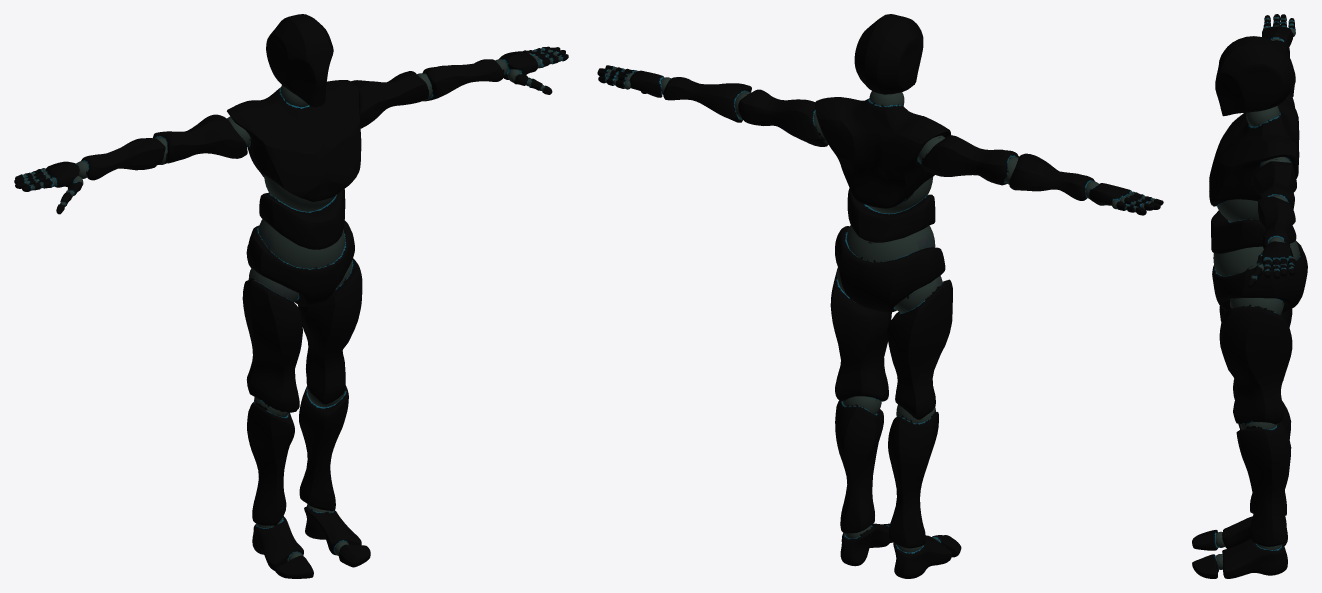
Rendered from ybot 1.fbx.
The picture shows the model from 3 angles, left to right: view 1: azimuth 30°, elevation 25°; view 2: azimuth 150°, elevation 25°; view 3: azimuth 270°, elevation 25°; orthographic projection. The views are drawn at different scales.
Parts seen in each view (by area): view 1: node_id71, node_id73; view 2: node_id71, node_id73; view 3: node_id71, node_id73.
Boxes of the visible parts, x1,y1,x2,y2 form: node_id71: (14, 14, 568, 578); node_id73: (23, 48, 561, 560); node_id71: (597, 14, 1163, 578); node_id73: (605, 67, 1154, 552); node_id71: (1192, 14, 1307, 578); node_id73: (1213, 17, 1299, 569).
Bounding box in the file's own units: 0.512 × 0.4746 × 0.0958.
2 materials, 2 textured.
